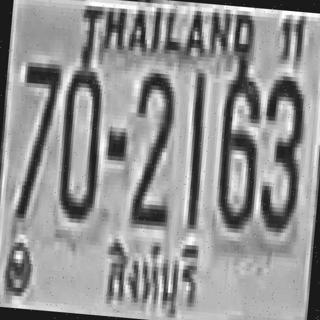N00: (54, 64, 105, 218)
N01: (181, 66, 208, 227)
N02: (128, 68, 177, 222)
N03: (254, 71, 306, 229)
N06: (212, 67, 263, 226)
N07: (12, 60, 60, 218)
P62: (94, 226, 206, 320)
